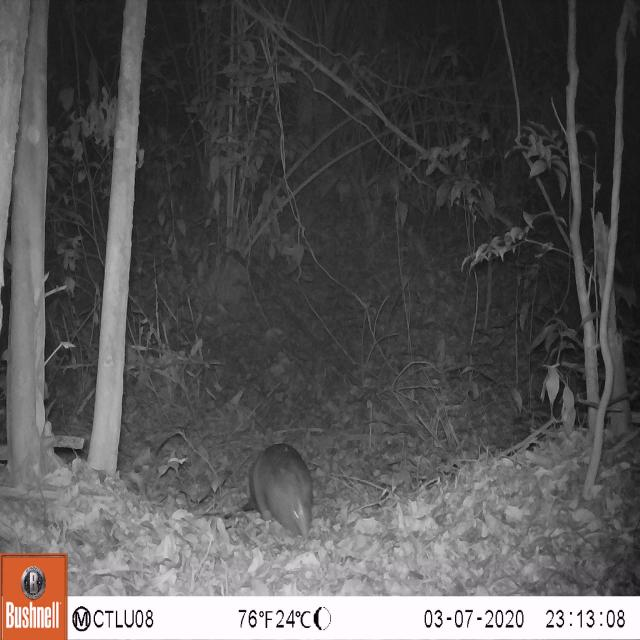Armadillo: (236, 433, 331, 547)
